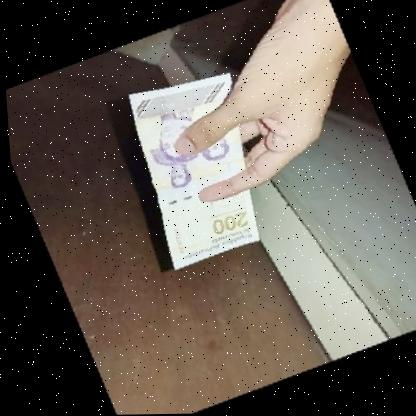two_hundred-front-vef: (124, 71, 272, 273)
